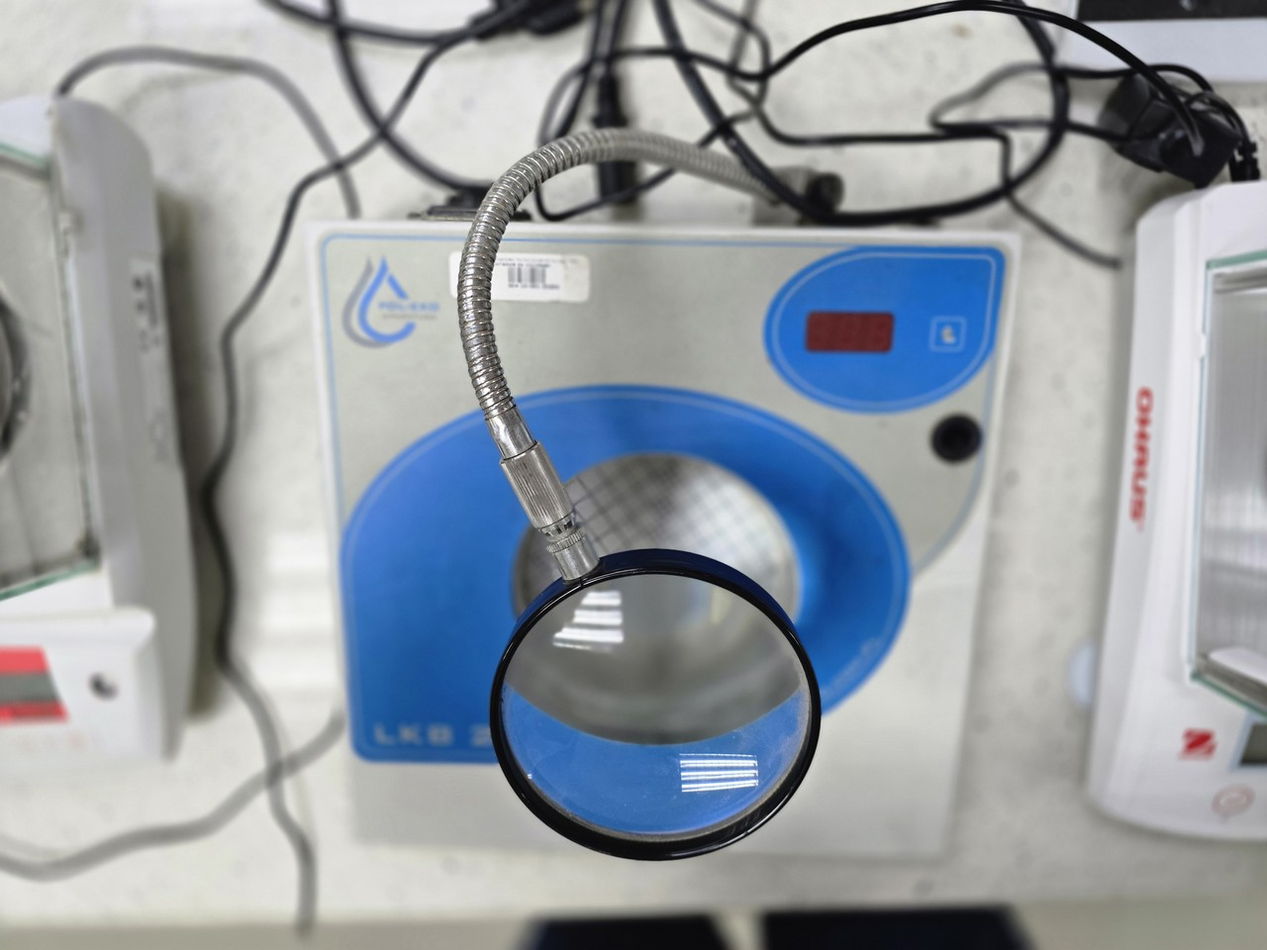contador_de_colonias: (263, 137, 1009, 894)
